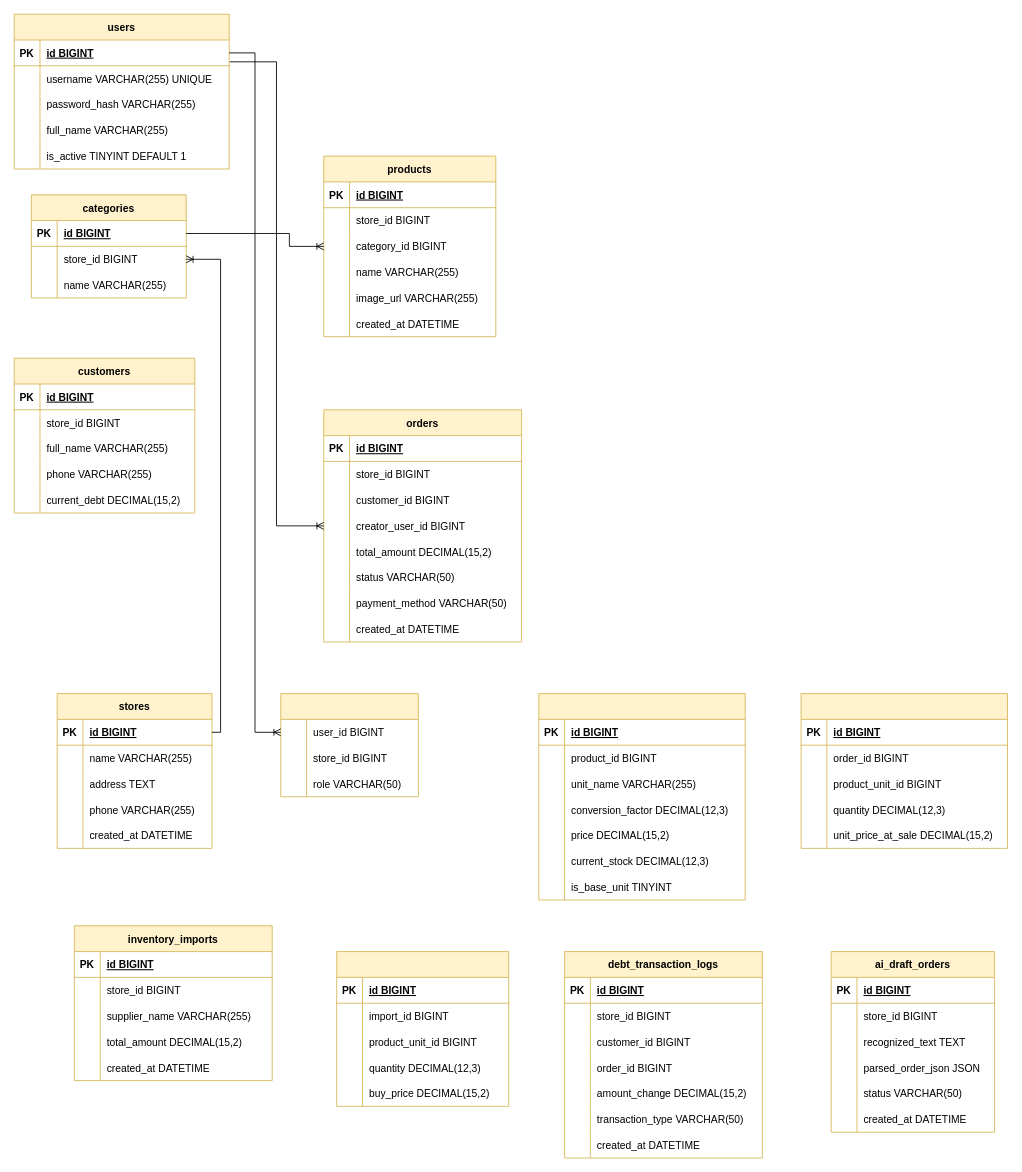
Some shapes in this 1022 by 1172 pixel diagram are drawn without their labels. Each missing label, with the box of its shape:
inventory_import_items: (336, 951, 509, 1106)
order_items: (800, 693, 1007, 848)
product_units: (538, 693, 745, 900)
store_users: (280, 693, 418, 797)
